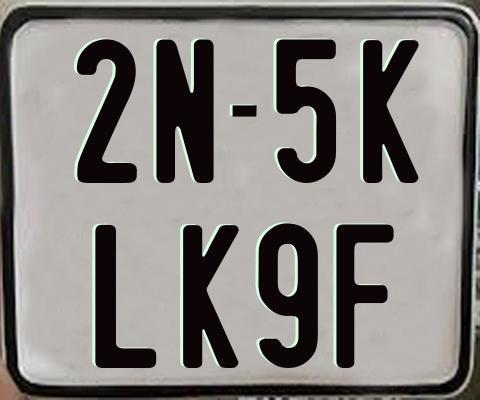2: (77, 39, 140, 188)
5: (274, 37, 336, 187)
9: (257, 220, 317, 368)
F: (336, 221, 394, 370)
K: (182, 223, 240, 366), (363, 38, 419, 186)
L: (92, 225, 153, 368)
N: (153, 36, 215, 182)
